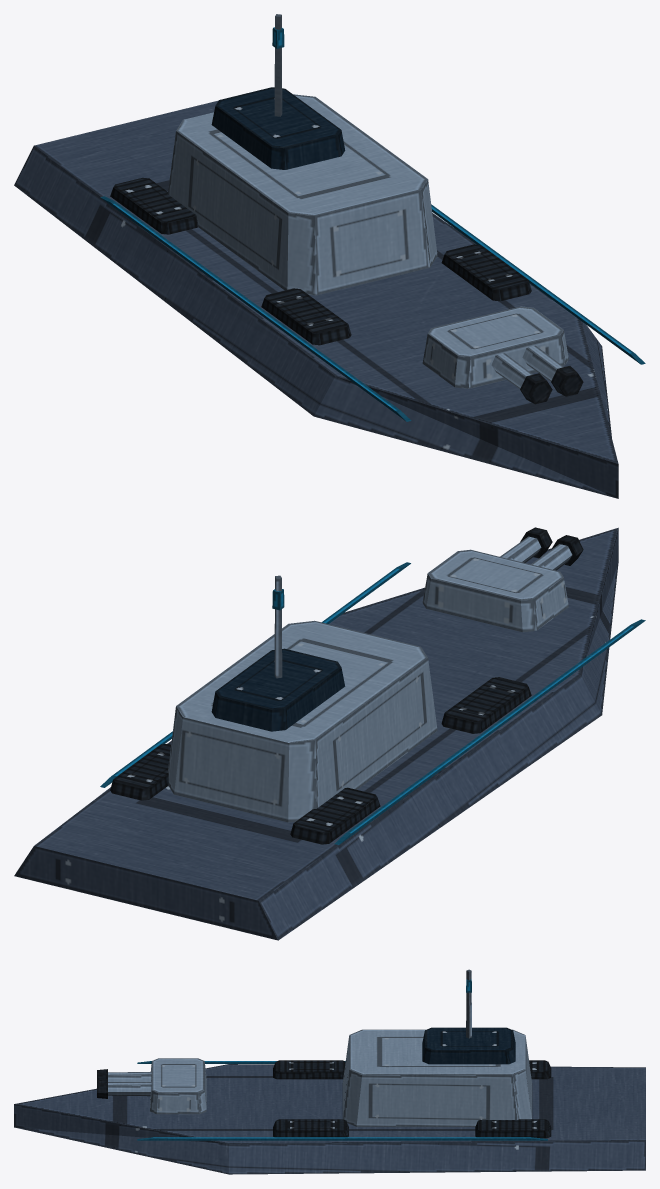
Rendered from unit-gunboat.fbx.
3 renders of one model, top to bottom at view 1: azimuth 30°, elevation 25°; view 2: azimuth 150°, elevation 25°; view 3: azimuth 270°, elevation 25°, orthographic. The views are drawn at different scales.
Visible parts, largest first — view 1: unit-gunboat; view 2: unit-gunboat; view 3: unit-gunboat.
Part boxes in pixels (x1,y1,x2,y2): unit-gunboat: (14, 14, 645, 498); unit-gunboat: (14, 527, 645, 940); unit-gunboat: (14, 969, 645, 1174).
Size of the model in its own units: 605 by 470 by 1716.
Materials: 1 (1 with a texture image).
